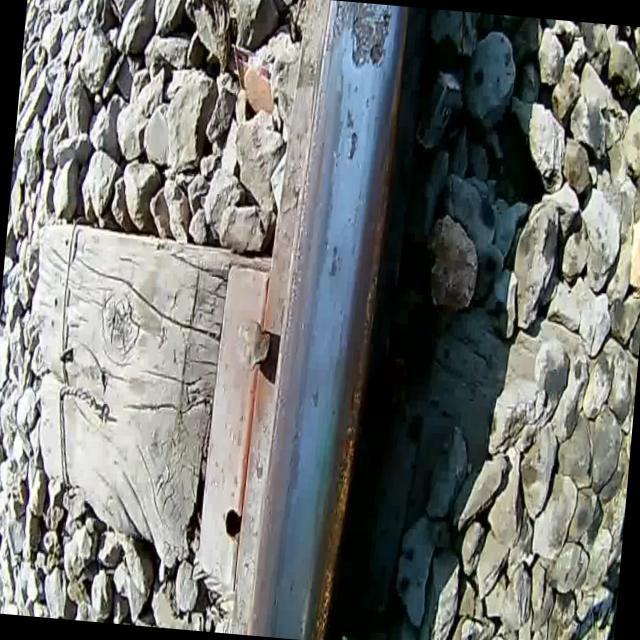Cracks: (329, 0, 360, 35), (384, 4, 397, 14)
Spallings: (365, 3, 393, 68)
Squats: (324, 0, 401, 78), (337, 102, 364, 168), (316, 233, 346, 283)
